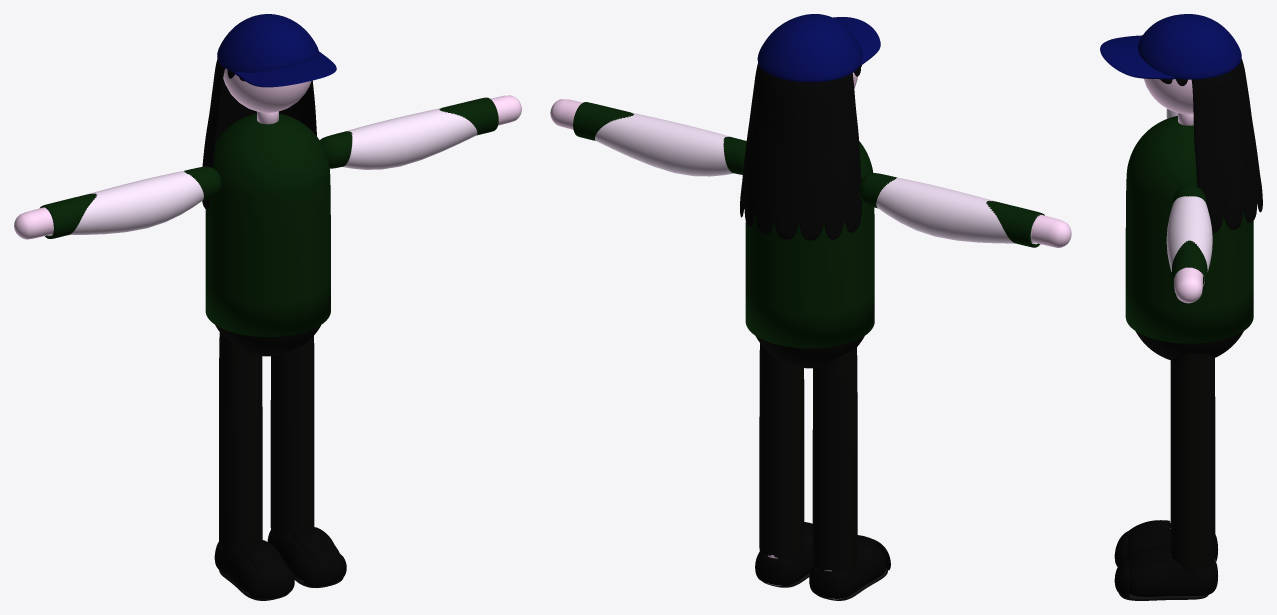
The model's file is mhjobj.obj.
3 renders of one model, left to right at view 1: azimuth 30°, elevation 25°; view 2: azimuth 150°, elevation 25°; view 3: azimuth 270°, elevation 25°, orthographic. The views are drawn at different scales.
Visible parts, largest first — view 1: top.body, pants.leg, top.arms.001, cap, top.arms, hair.long, shoe.002, shoe, Head_Sphere.001, cap.001, shoe.003, Arm_L_Sphere.001 (+1 smaller); view 2: pants.leg, hair.long, top.body, top.arms.001, cap, top.arms, shoe, Arm_L_Sphere.001, pants, cap.001; view 3: top.body, pants.leg, hair.long, cap, shoe, top.arms.001, cap.001, pants, top.arms, shoe.003, Head_Sphere.001, Arm_L_Sphere.001 (+2 smaller).
Boxes of the visible parts, left/top/right/bottom form: top.body: left=205, top=113, right=330, bottom=337; pants.leg: left=219, top=332, right=314, bottom=550; top.arms.001: left=45, top=108, right=477, bottom=235; cap: left=217, top=14, right=319, bottom=72; top.arms: left=40, top=97, right=498, bottom=238; hair.long: left=202, top=58, right=316, bottom=209; shoe.002: left=249, top=551, right=346, bottom=598; shoe: left=214, top=530, right=339, bottom=592; Head_Sphere.001: left=223, top=68, right=311, bottom=112; cap.001: left=232, top=51, right=336, bottom=87; shoe.003: left=239, top=527, right=336, bottom=570; Arm_L_Sphere.001: left=14, top=95, right=521, bottom=239; pants.leg: left=759, top=343, right=857, bottom=572; hair.long: left=740, top=62, right=861, bottom=240; top.body: left=745, top=141, right=874, bottom=348; top.arms.001: left=595, top=112, right=1038, bottom=244; cap: left=757, top=14, right=862, bottom=82; top.arms: left=573, top=102, right=1044, bottom=247; shoe: left=755, top=533, right=886, bottom=598; Arm_L_Sphere.001: left=550, top=99, right=1071, bottom=247; pants: left=755, top=336, right=864, bottom=368; cap.001: left=833, top=17, right=880, bottom=65; top.body: left=1125, top=116, right=1253, bottom=343; pants.leg: left=1170, top=353, right=1215, bottom=573; hair.long: left=1160, top=59, right=1262, bottom=233; cap: left=1137, top=14, right=1241, bottom=79; shoe: left=1126, top=523, right=1218, bottom=596; top.arms.001: left=1166, top=109, right=1212, bottom=287; cap.001: left=1100, top=35, right=1176, bottom=79; pants: left=1135, top=331, right=1243, bottom=360; top.arms: left=1171, top=185, right=1207, bottom=292; shoe.003: left=1127, top=520, right=1170, bottom=569; Head_Sphere.001: left=1144, top=78, right=1193, bottom=114; Arm_L_Sphere.001: left=1174, top=267, right=1203, bottom=303.
Bounding box in the file's own units: 5.92 × 6.17 × 1.62.
